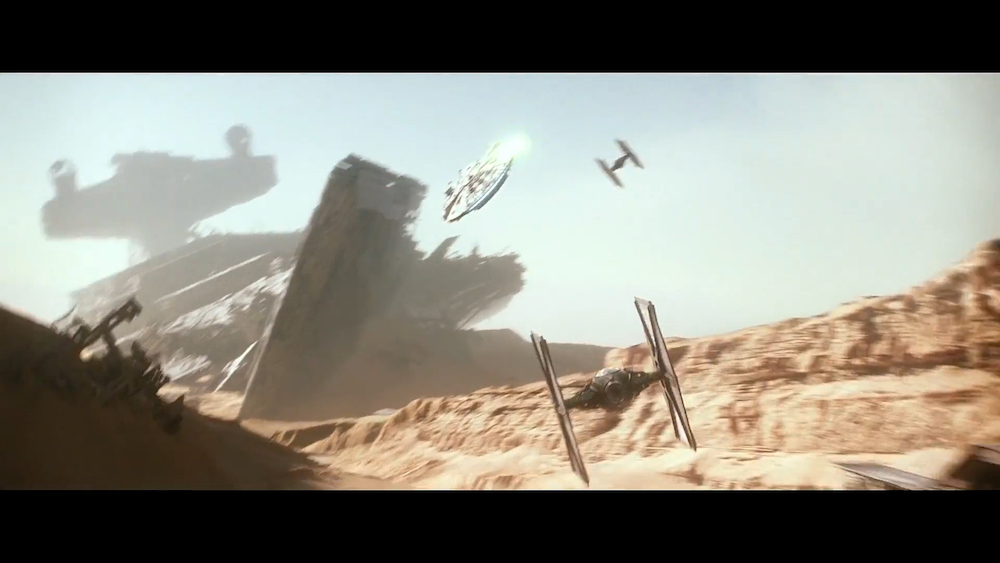Millennium Falcon: (442, 138, 517, 225)
Tie Fighter: (529, 299, 701, 486), (594, 138, 646, 191)
